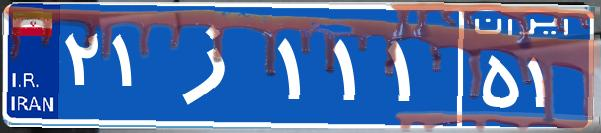1: (385, 28, 445, 110), (273, 28, 330, 110), (330, 28, 385, 110), (110, 28, 158, 105), (525, 38, 570, 115)
2: (57, 26, 110, 107)
5: (475, 38, 525, 113)
ز: (158, 15, 273, 115)
